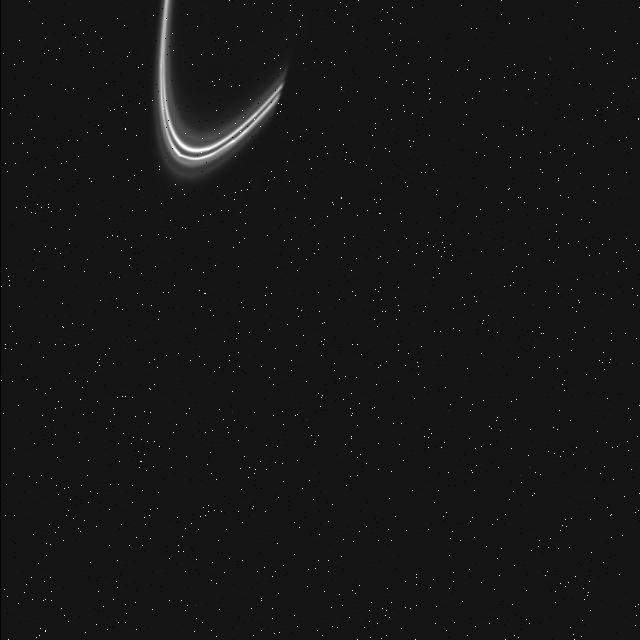Saturn: (147, 0, 291, 184)
